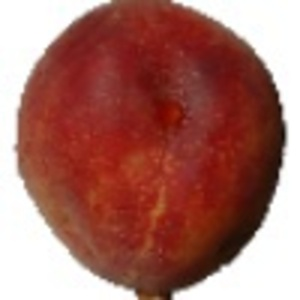pêssego: (13, 1, 287, 300)
